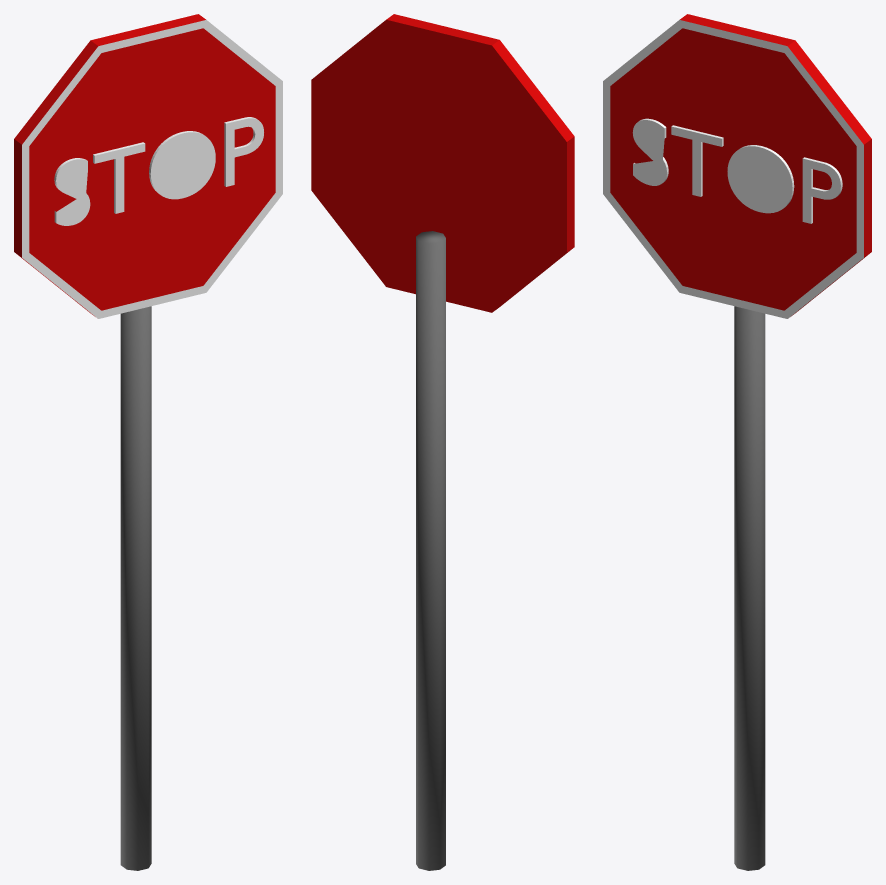
Rendered from Prop_StreetSign_Stop.fbx.
The picture shows the model from 3 angles, left to right: view 1: azimuth 30°, elevation 25°; view 2: azimuth 150°, elevation 25°; view 3: azimuth 330°, elevation 25°; orthographic projection. The views are drawn at different scales.
Parts seen in each view (by area): view 1: Prop_StreetSign_Stop; view 2: Prop_StreetSign_Stop; view 3: Prop_StreetSign_Stop.
Part boxes in pixels (<box>): Prop_StreetSign_Stop: <box>14,14,282,870</box>; Prop_StreetSign_Stop: <box>311,14,574,870</box>; Prop_StreetSign_Stop: <box>603,14,871,870</box>.
Size of the model in its own units: 141 by 435 by 23.93.
